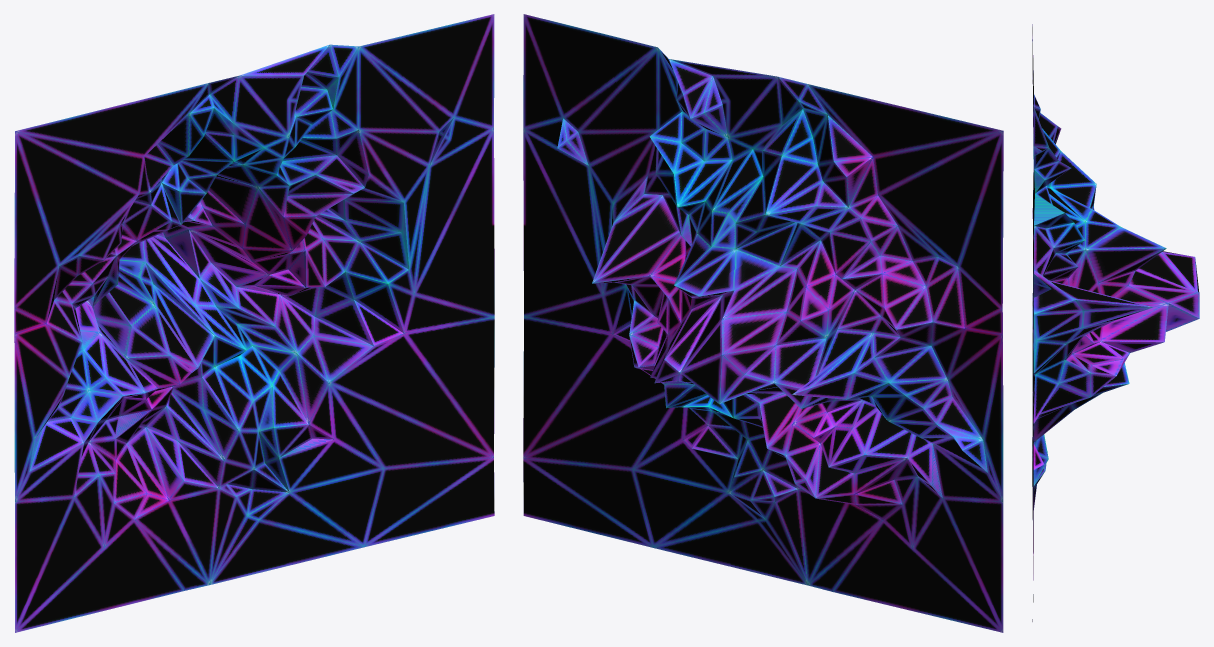
Rendered from wire_terr_3.FBX.
3 renders of one model, left to right at view 1: azimuth 30°, elevation 25°; view 2: azimuth 150°, elevation 25°; view 3: azimuth 270°, elevation 25°, orthographic. The views are drawn at different scales.
Visible parts, largest first — view 1: wire_terr_3; view 2: wire_terr_3; view 3: wire_terr_3.
Part boxes in pixels (bbox=[...]): wire_terr_3: bbox=[14, 14, 494, 632]; wire_terr_3: bbox=[523, 14, 1003, 632]; wire_terr_3: bbox=[1032, 24, 1199, 621].
Size of the model in its own units: 306 by 306 by 110.
Materials: 1 (1 with a texture image).
